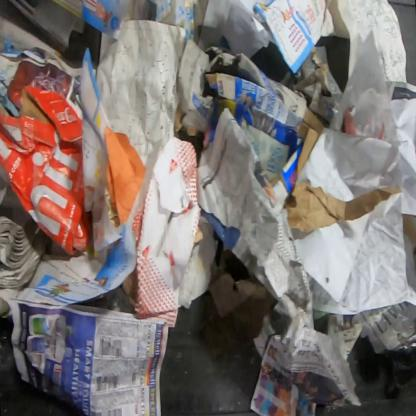cardboard: (191, 45, 325, 216), (0, 86, 94, 258), (123, 137, 202, 328), (280, 45, 344, 131), (6, 61, 44, 111)
